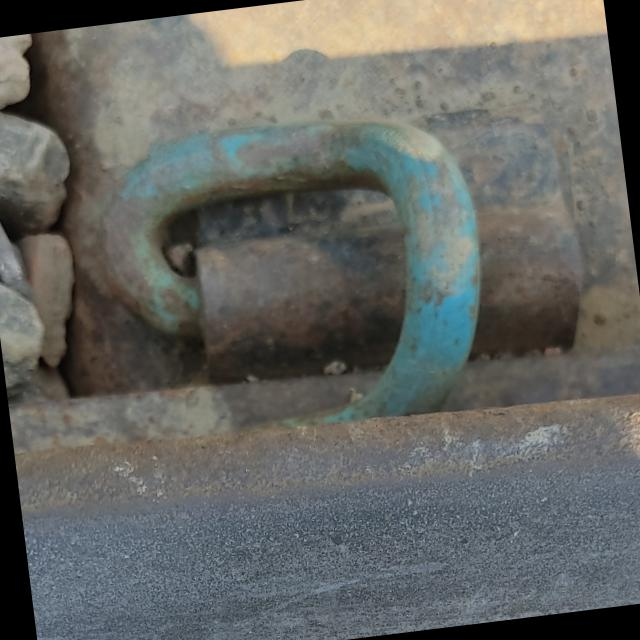track_bolt: (83, 97, 504, 446)
